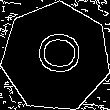O_W: (29, 33, 83, 81)
